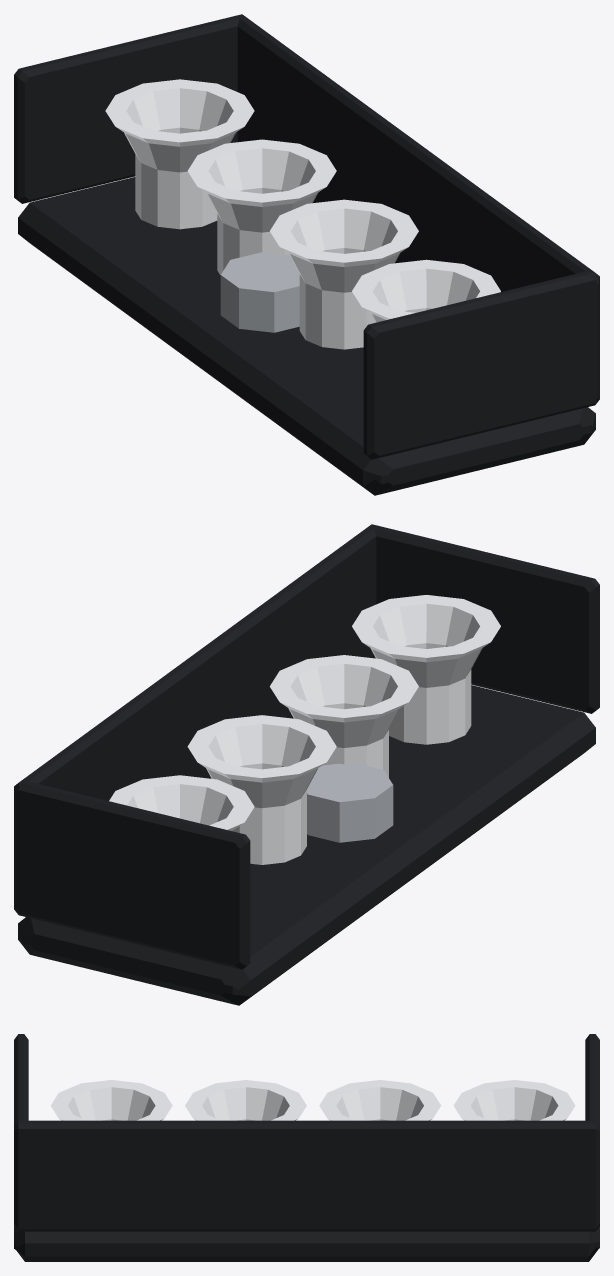
File: vortex_r.glb
3 views of the same model, one above another, from view 1: azimuth 30°, elevation 25°; view 2: azimuth 150°, elevation 25°; view 3: azimuth 270°, elevation 25° (orthographic). The views are drawn at different scales.
Visible parts, largest first — view 1: model; view 2: model; view 3: model.
Part boxes in pixels (bbox=[...]): model: bbox=[14, 14, 599, 495]; model: bbox=[14, 524, 599, 1005]; model: bbox=[14, 1034, 599, 1261].
Size of the model in its own units: 0.18 by 0.128 by 0.48.
Materials: 3 (1 with a texture image).
